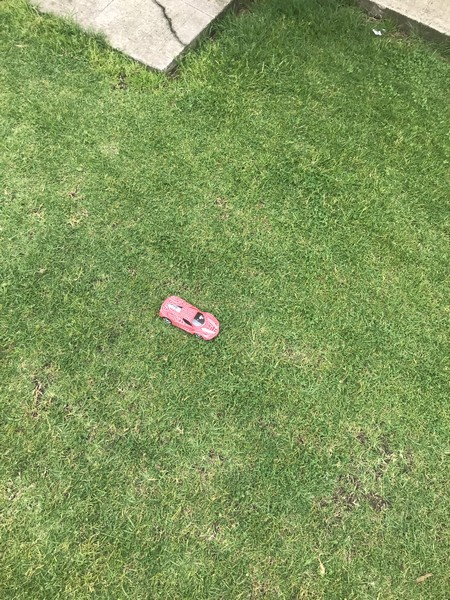RC: (158, 294, 220, 342)
